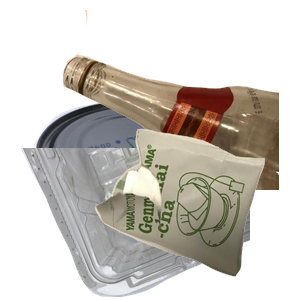glass: (60, 10, 300, 190)
metal: (16, 96, 244, 276)
plastic: (19, 148, 259, 300)
trash: (93, 126, 300, 300)
